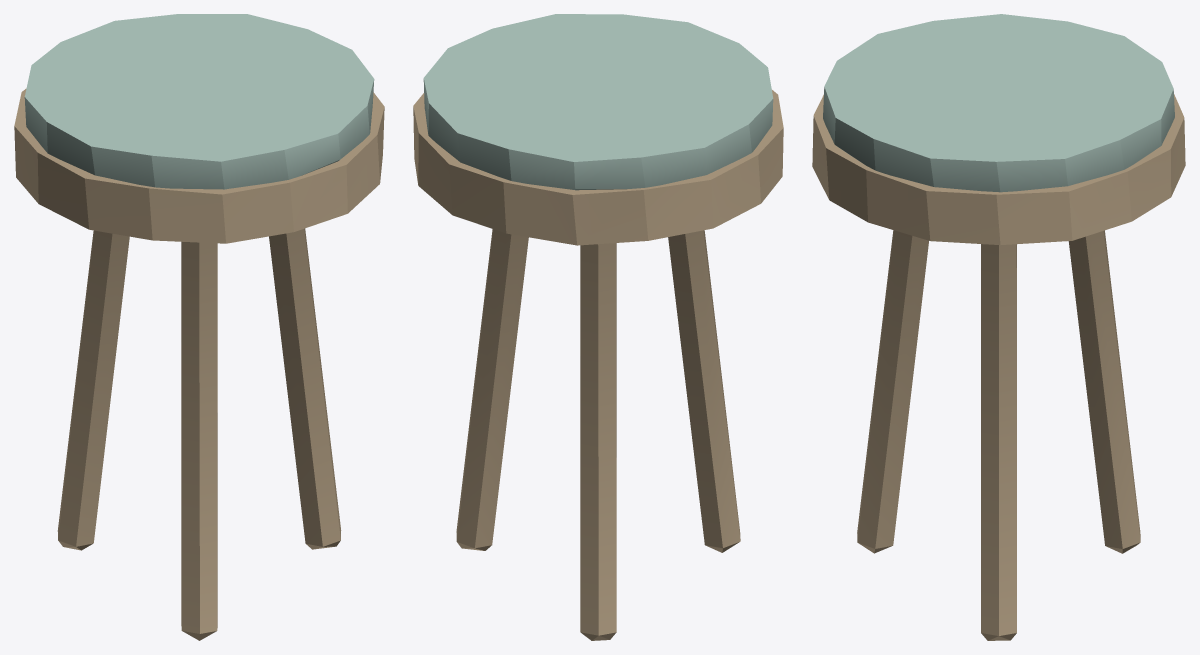
The model's file is furn_stool__oak_low.glb.
3 renders of one model, left to right at view 1: azimuth 30°, elevation 25°; view 2: azimuth 150°, elevation 25°; view 3: azimuth 270°, elevation 25°, orthographic.
Bounding box in the file's own units: 0.3566 × 0.5192 × 0.3566.
